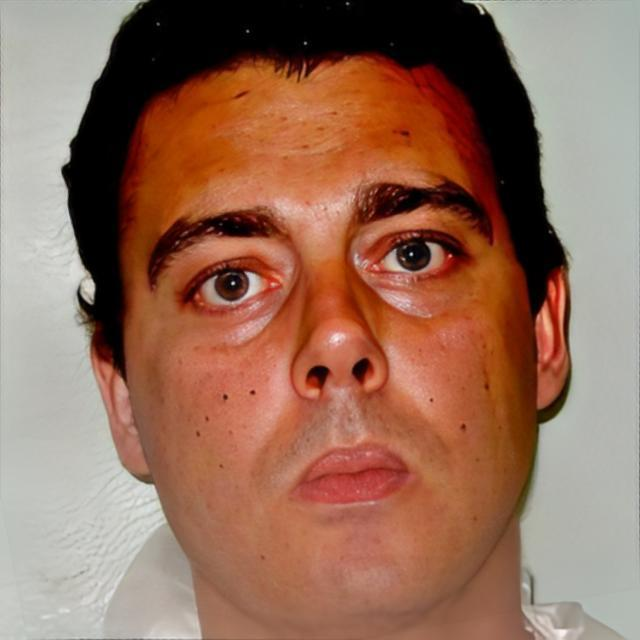neutral: (120, 48, 538, 624)
